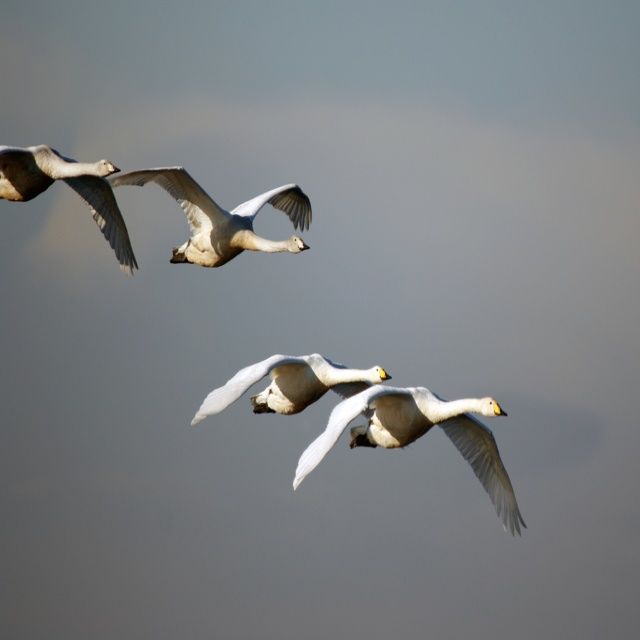Swan: (294, 382, 528, 535), (107, 167, 314, 269), (0, 143, 139, 278), (191, 352, 390, 422)
